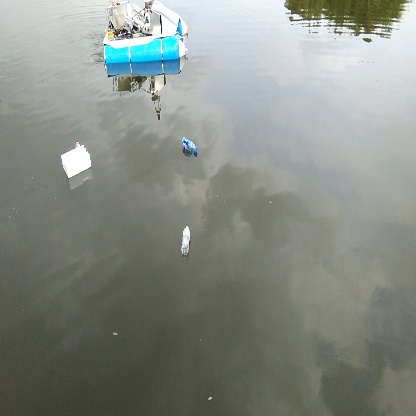bottle: (175, 223, 194, 257), (178, 134, 201, 157)
plastic-garbage: (59, 145, 98, 179)
